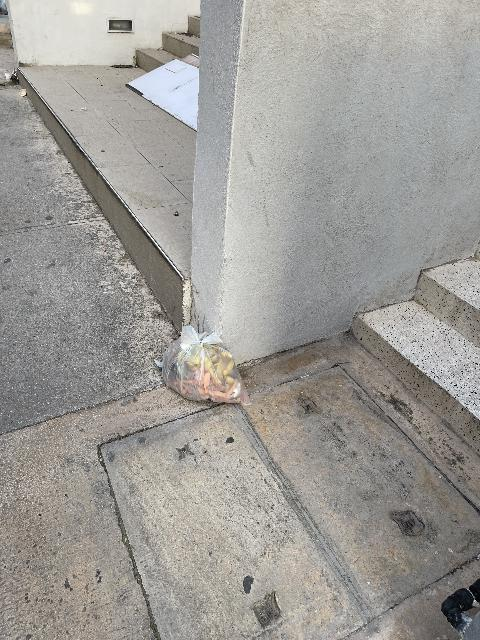Organic -White-: (161, 326, 250, 404)
